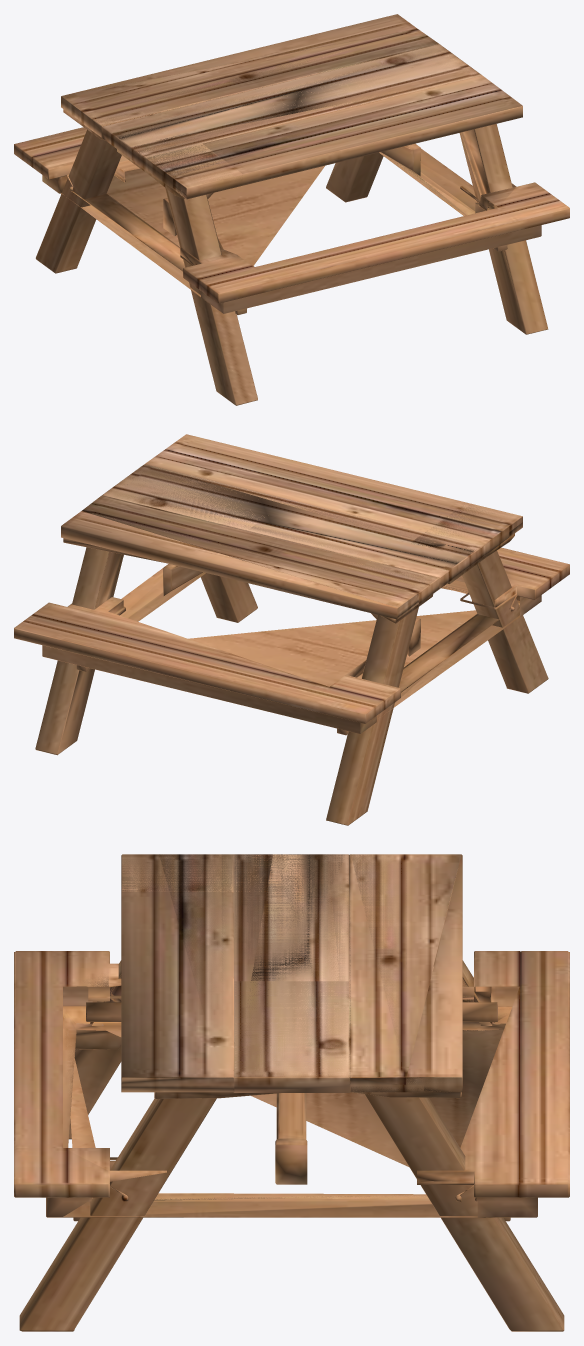
Rendered from picnictable.glb.
3 renders of one model, top to bottom at view 1: azimuth 30°, elevation 25°; view 2: azimuth 150°, elevation 25°; view 3: azimuth 270°, elevation 25°, orthographic. The views are drawn at different scales.
Bounding box in the file's own units: 1.89 × 0.9941 × 1.91.
Materials: 1 (1 with a texture image).
